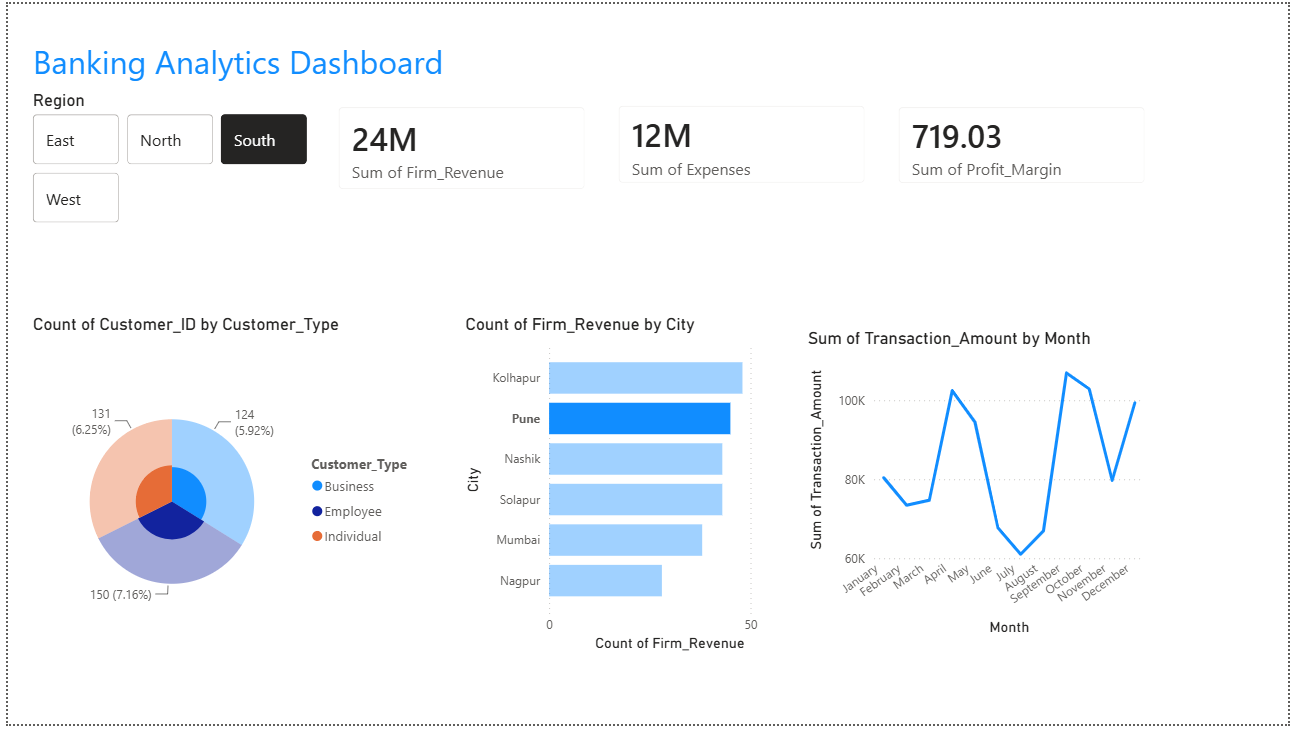

The dashboard page shown, as its layout file describes it:
{"tool":"powerbi","page":{"name":"Page 1","canvas":[1280,720],"ordinal":0},"visuals":[{"type":"cardVisual","fields":{"Data":["Sum(bank_data.Firm_Revenue)"]},"box":[313.8,86.2,280,116.2],"z":0},{"type":"cardVisual","fields":{"Data":["Sum(bank_data.Expenses)"]},"box":[593.8,85,280,111.2],"z":1000},{"type":"cardVisual","fields":{"Data":["Sum(bank_data.Profit_Margin)"]},"box":[873.8,86.2,280,110],"z":2000},{"type":"clusteredBarChart","fields":{"Category":["bank_data.City"],"Y":["CountNonNull(bank_data.Firm_Revenue)"]},"box":[452.5,310,342.5,342.5],"z":3000},{"type":"pieChart","fields":{"Category":["customer_data.Customer_Type"],"Y":["CountNonNull(customer_data.Customer_ID)"]},"box":[20,310,401.2,356.2],"z":4000},{"type":"lineChart","fields":{"Category":["transaction_data.Transaction_Date.Variation.Date Hierarchy.Month"],"Y":["Sum(transaction_data.Transaction_Amount)"]},"box":[795,323.8,346.2,312.5],"z":5000},{"type":"advancedSlicerVisual","fields":{"Values":["bank_data.Region"]},"box":[20,86.2,285,138.8],"z":6000},{"type":"textbox","box":[20,31.2,432.5,55],"z":7000}]}

Visuals, with their boxes in screenshot pixels (x1, y1, x2, y2), scaled from the page's 1280x720 canvas onto the 1296x731 screenshot:
cardVisual - Sum(bank_data.Firm_Revenue): bbox=(318, 88, 601, 205)
cardVisual - Sum(bank_data.Expenses): bbox=(601, 86, 885, 199)
cardVisual - Sum(bank_data.Profit_Margin): bbox=(885, 88, 1168, 199)
clusteredBarChart - bank_data.City x CountNonNull(bank_data.Firm_Revenue): bbox=(458, 315, 805, 662)
pieChart - customer_data.Customer_Type x CountNonNull(customer_data.Customer_ID): bbox=(20, 315, 426, 676)
lineChart - transaction_data.Transaction_Date.Variation.Date Hierarchy.Month x Sum(transaction_data.Transaction_Amount): bbox=(805, 329, 1155, 646)
advancedSlicerVisual - bank_data.Region: bbox=(20, 88, 309, 228)
textbox: bbox=(20, 32, 458, 88)
